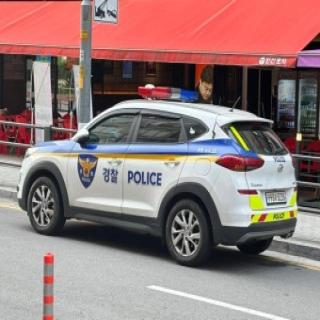Police_car: (16, 85, 297, 266)
